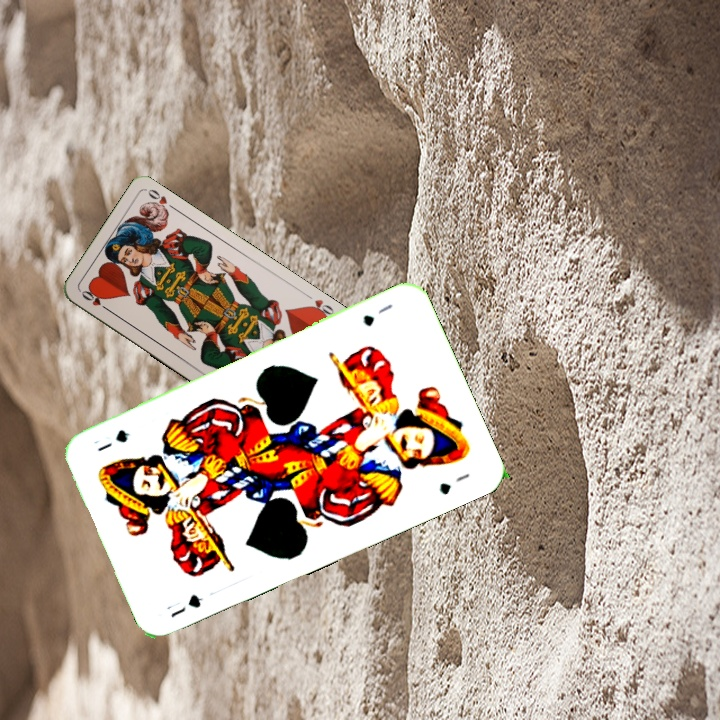GU: (162, 590, 206, 621), (359, 299, 395, 329)
HO: (77, 286, 113, 314), (304, 295, 337, 321)
